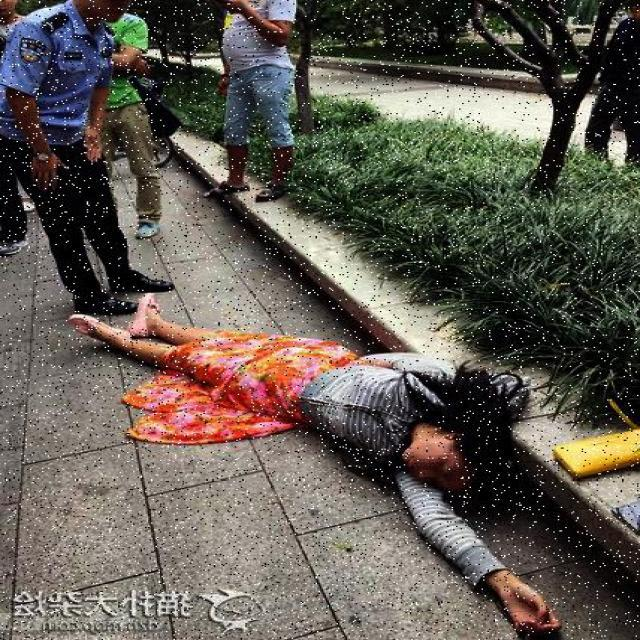fall: (66, 289, 510, 502)
